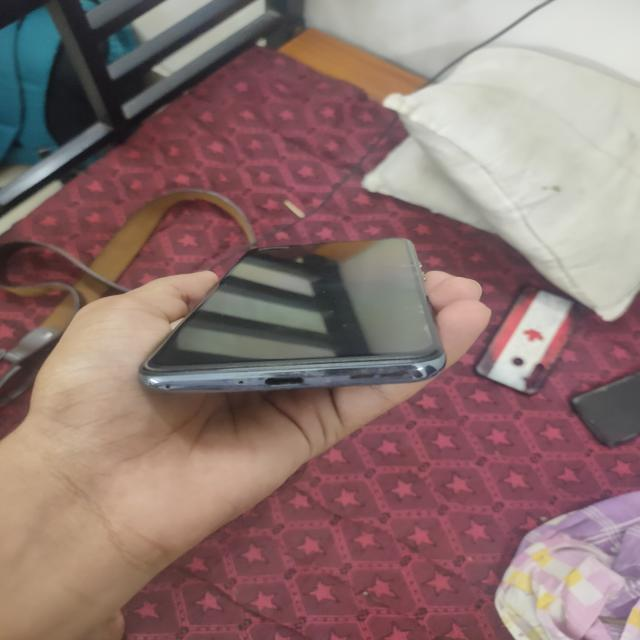Phone: (132, 232, 448, 403), (472, 280, 580, 398), (568, 362, 640, 453)
